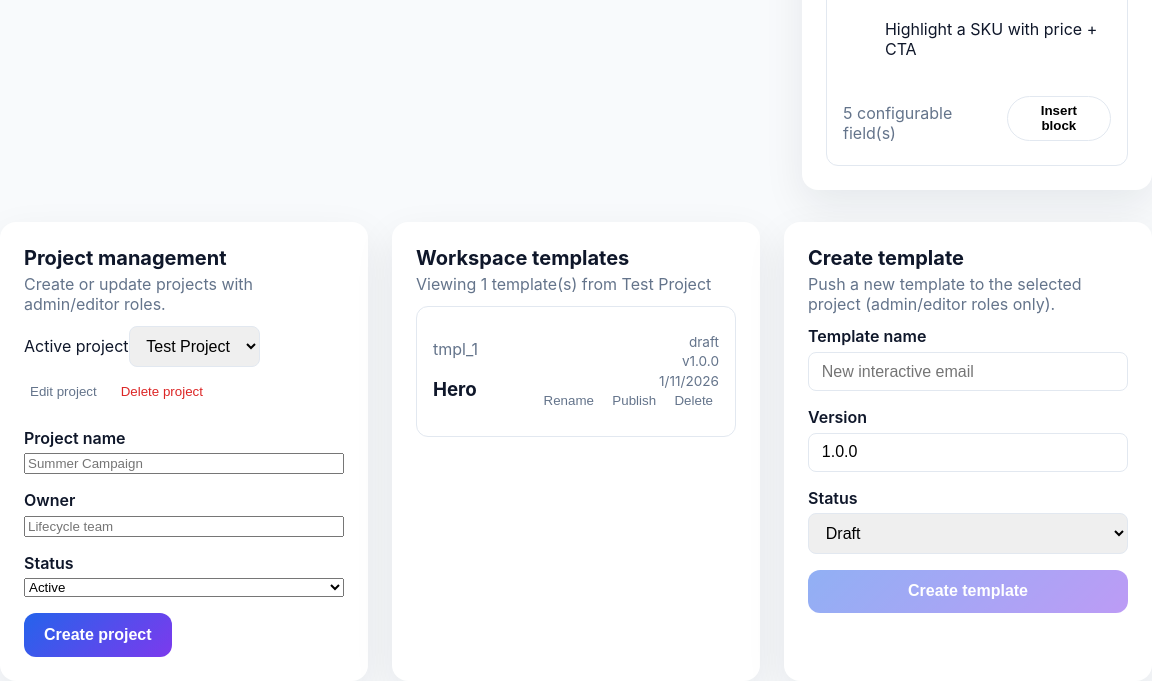
RBAC UI behaviors › shows template actions for admin role
The image size is (1152, 681).
(page scrolled)
Click the button "Rename" at coordinates (569, 400), box [538,392,600,409]
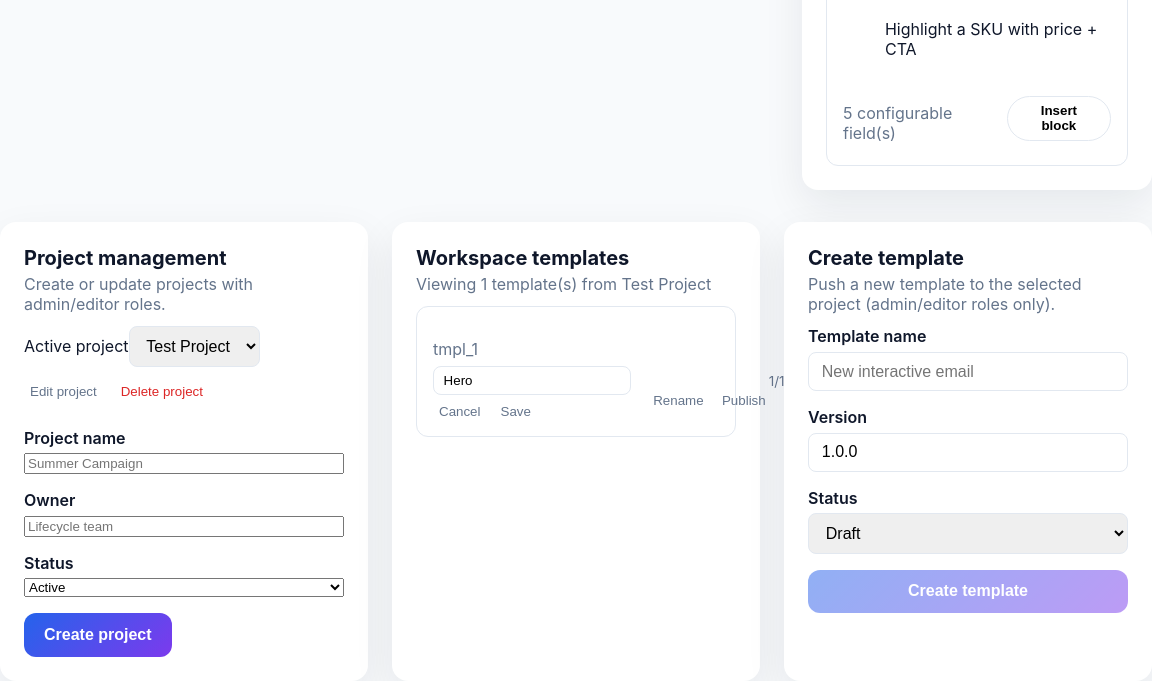
Check: the button "Save" is shown, box [494,404,537,420]
